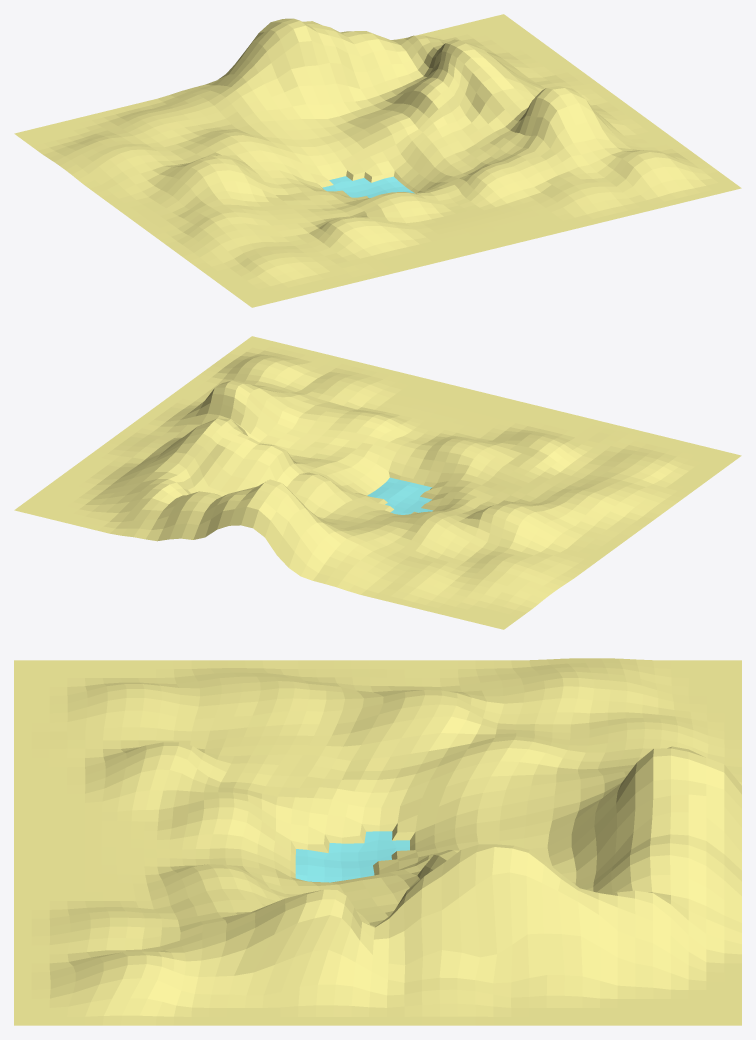
The model's file is map_model.glb.
3 renders of one model, top to bottom at view 1: azimuth 30°, elevation 25°; view 2: azimuth 150°, elevation 25°; view 3: azimuth 270°, elevation 25°, orthographic. The views are drawn at different scales.
Parts seen in each view (by area): view 1: Area; view 2: Area; view 3: Area.
Part boxes in pixels (x1=…): Area: x1=14, y1=14, x2=741, y2=307; Area: x1=14, y1=336, x2=741, y2=629; Area: x1=14, y1=658, x2=741, y2=1025.
Size of the model in its own units: 120 by 20.18 by 101.
Materials: 1 (1 with a texture image).
